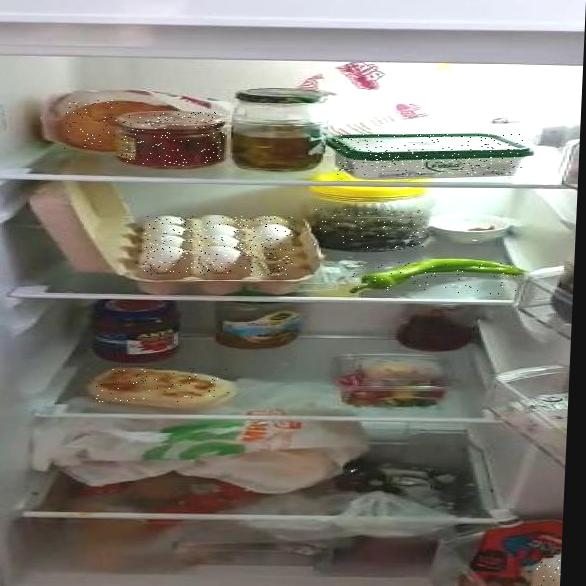bazlama: (93, 368, 232, 403)
bread: (64, 100, 120, 149)
cream cheese: (333, 134, 523, 175)
eggs: (143, 216, 295, 275)
green chilies: (352, 262, 520, 294)
olives: (312, 209, 426, 248)
tomato paste: (120, 112, 226, 166)
